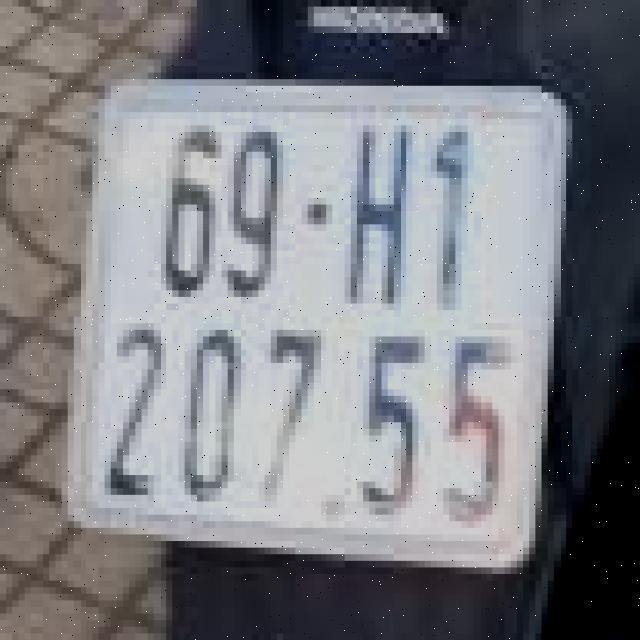0: (179, 317, 246, 508)
1: (421, 122, 477, 313)
2: (102, 320, 169, 505)
5: (443, 330, 517, 534), (360, 330, 434, 521)
6: (160, 119, 228, 297)
7: (255, 317, 323, 521)
9: (219, 122, 286, 300)
H: (348, 115, 415, 314)
